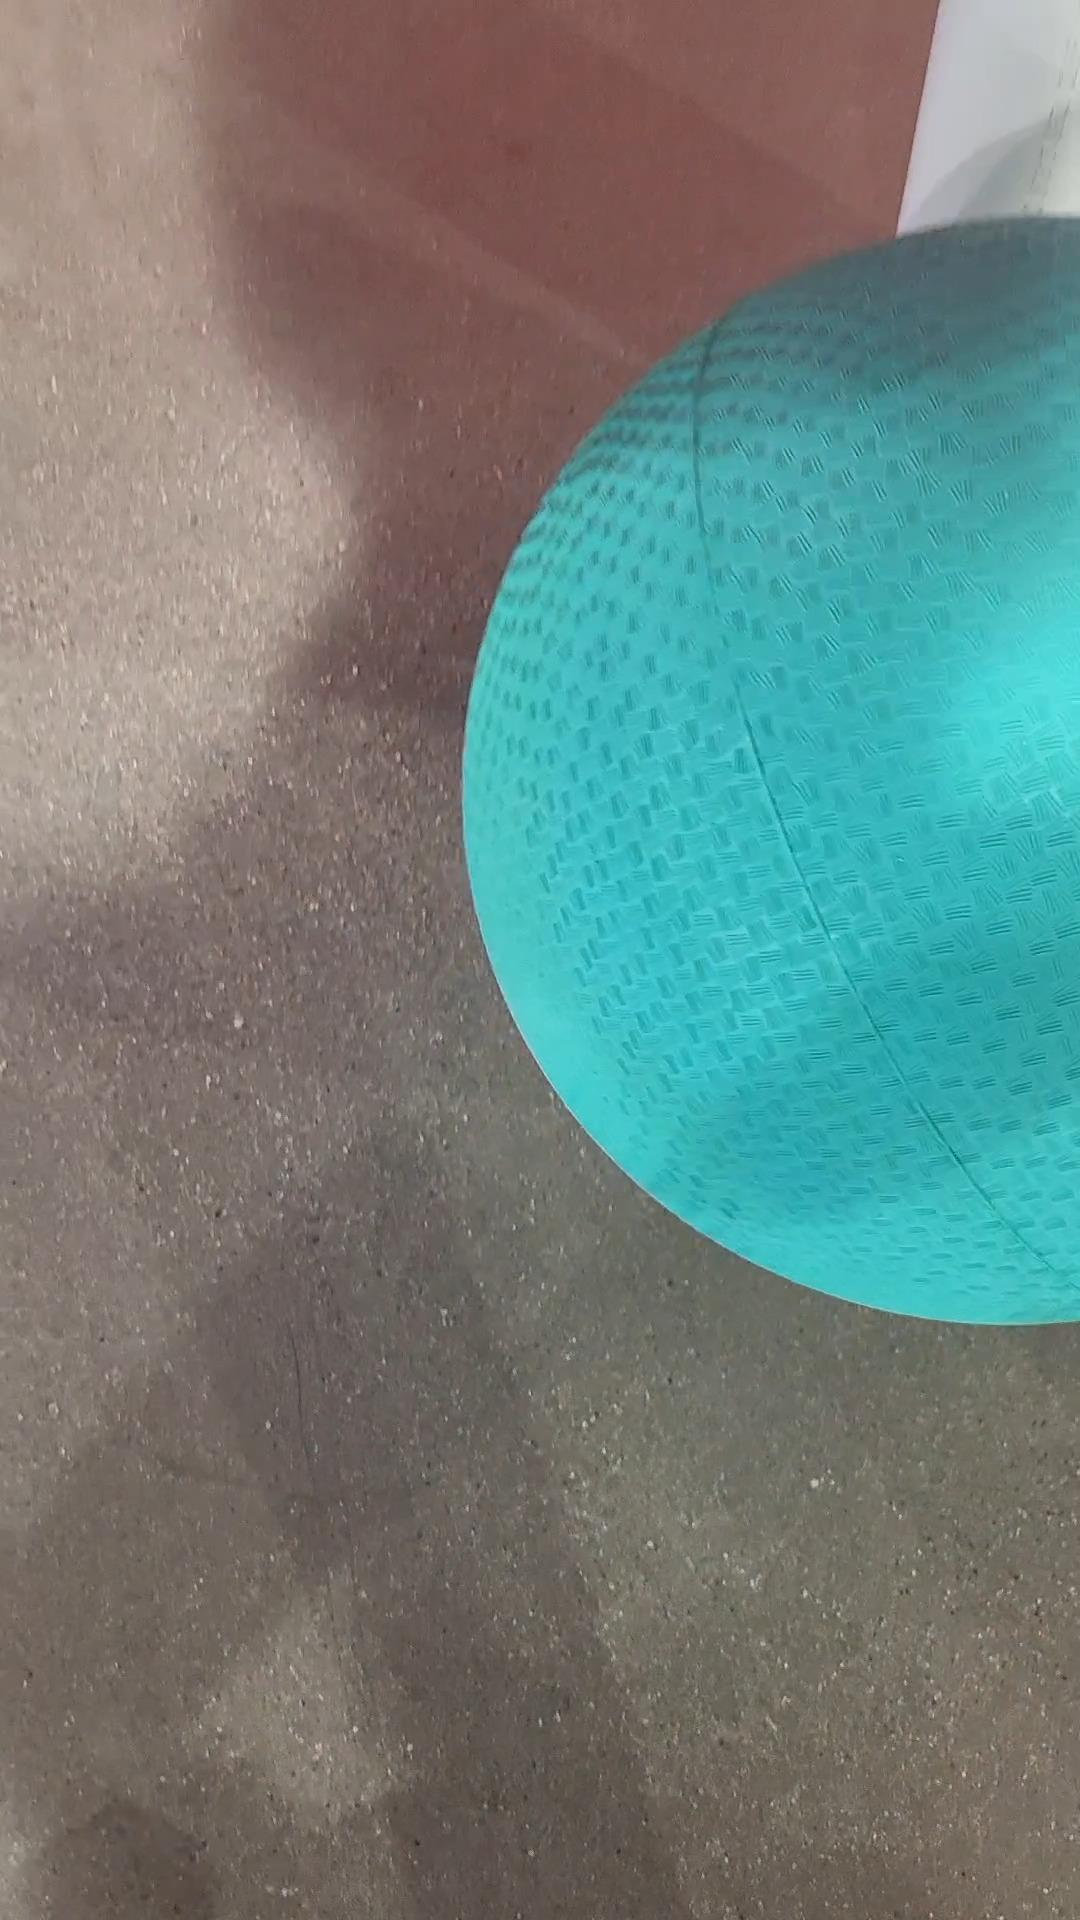algae: (451, 202, 1080, 1345)
